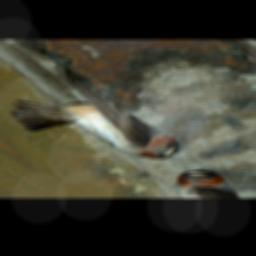Swallow: (0, 62, 191, 182)
